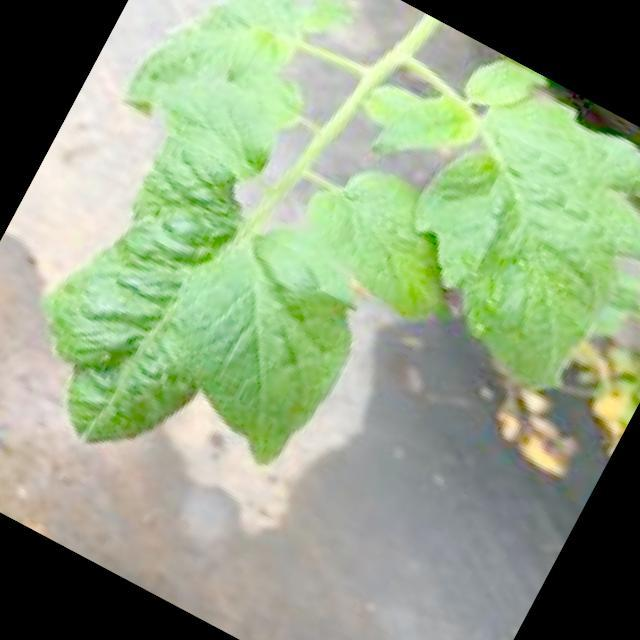Tomato healthy leaf: (40, 0, 324, 445), (38, 130, 358, 467), (358, 62, 640, 393), (307, 172, 442, 322)
